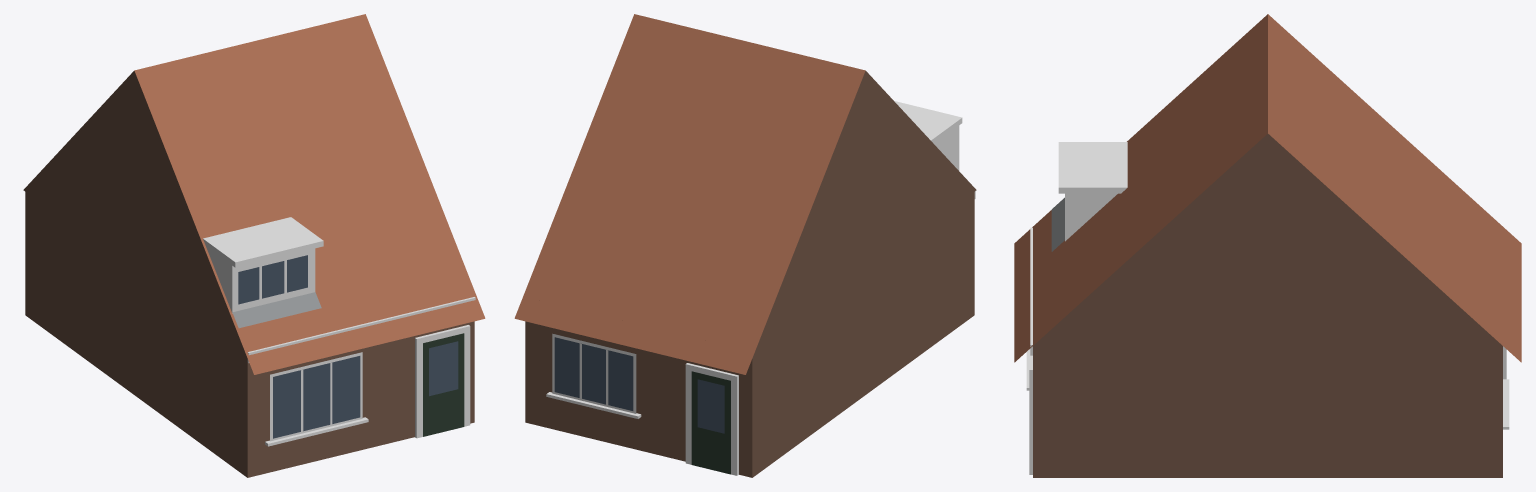
Rendered from nd-to-cottage__green-door__2__gable__long__solid__f0d1__mirror.glb.
3 views of the same model, side by side, from view 1: azimuth 30°, elevation 25°; view 2: azimuth 150°, elevation 25°; view 3: azimuth 270°, elevation 25° (orthographic). The views are drawn at different scales.
Parts seen in each view (by area): view 1: nd-to-cottage__green-door__2__gable__long__solid__f0d1__mirr; view 2: nd-to-cottage__green-door__2__gable__long__solid__f0d1__mirr; view 3: nd-to-cottage__green-door__2__gable__long__solid__f0d1__mirr.
Part boxes in pixels (left/top/right/bottom): nd-to-cottage__green-door__2__gable__long__solid__f0d1__mirr: left=23, top=14, right=485, bottom=477; nd-to-cottage__green-door__2__gable__long__solid__f0d1__mirr: left=514, top=14, right=976, bottom=477; nd-to-cottage__green-door__2__gable__long__solid__f0d1__mirr: left=1014, top=14, right=1521, bottom=477.
Size of the model in its own units: 5.29 by 7.14 by 9.5.
